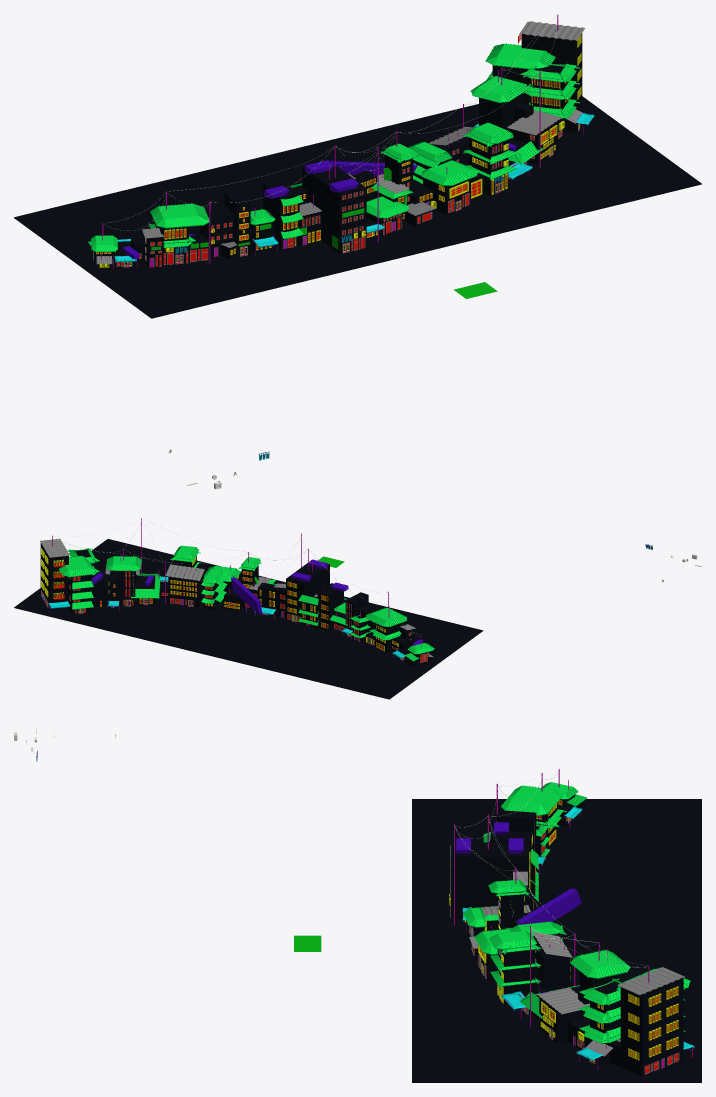
Rendered from prueba ciudad con lamberts fbx.FBX.
The picture shows the model from 3 angles, top to bottom: view 1: azimuth 30°, elevation 25°; view 2: azimuth 150°, elevation 25°; view 3: azimuth 270°, elevation 25°; orthographic projection. The views are drawn at different scales.
Visible parts, largest first — view 1: Box1195, Layer:Capa 029, Box232, Box178, Box216, Box194, tejado de chapa005, tejado de chapa011; view 2: Box1195, Layer:Capa 029, Box232, Box178, Box216, Box263, tejado de chapa009, tejado de chapa005; view 3: Box1195, Layer:Capa 029, Box178, Box216, Box263, tejado de chapa005, tejado de chapa011, Box199, tejado de chapa009.
Boxes of the visible parts, left/top/right/bottom form: Box1195: left=14, top=96, right=701, bottom=318; Layer:Capa 029: left=93, top=33, right=582, bottom=267; Box232: left=485, top=43, right=555, bottom=69; Box178: left=150, top=203, right=209, bottom=228; Box216: left=470, top=76, right=528, bottom=103; Box194: left=421, top=160, right=478, bottom=185; tejado de chapa005: left=519, top=21, right=584, bottom=40; tejado de chapa011: left=507, top=110, right=562, bottom=135; Box1195: left=14, top=539, right=483, bottom=699; Layer:Capa 029: left=40, top=543, right=431, bottom=667; Box232: left=54, top=555, right=95, bottom=577; Box178: left=365, top=607, right=407, bottom=627; Box216: left=106, top=556, right=141, bottom=571; Box263: left=231, top=576, right=262, bottom=614; tejado de chapa009: left=165, top=564, right=204, bottom=580; tejado de chapa005: left=40, top=538, right=69, bottom=557; Box1195: left=412, top=799, right=701, bottom=1082; Layer:Capa 029: left=450, top=795, right=683, bottom=1076; Box178: left=501, top=785, right=561, bottom=816; Box216: left=570, top=949, right=630, bottom=979; Box263: left=516, top=888, right=581, bottom=924; tejado de chapa005: left=618, top=967, right=684, bottom=995; tejado de chapa011: left=537, top=987, right=589, bottom=1014; Box199: left=489, top=930, right=536, bottom=949; tejado de chapa009: left=532, top=932, right=572, bottom=957.
Bounding box in the file's own units: 6273 × 877 × 5120.
